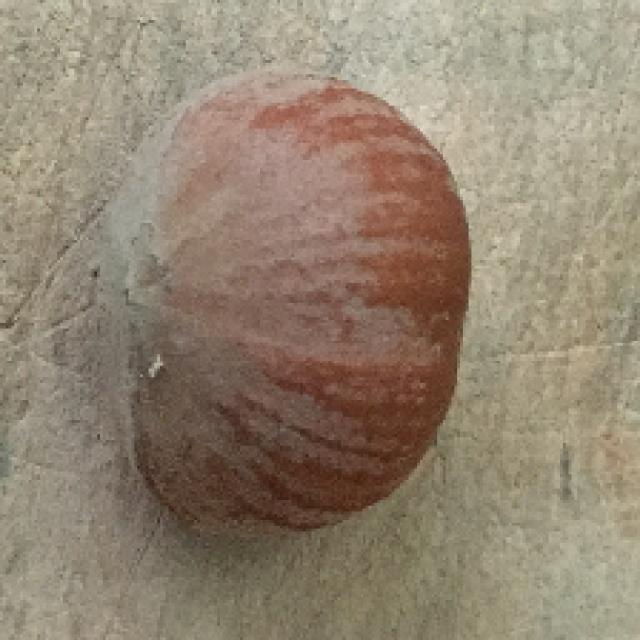QualityHazelnut: (102, 67, 472, 546)
